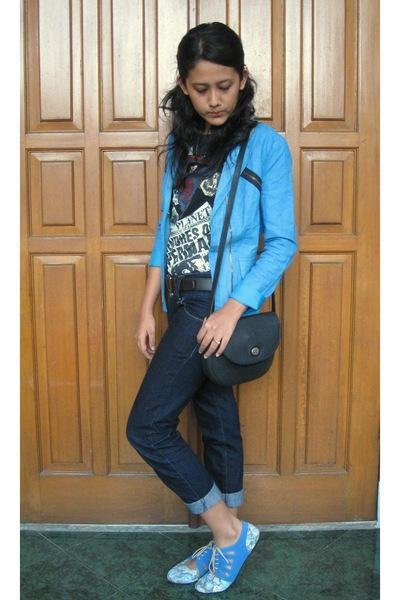bag: (191, 303, 282, 382)
jacket: (149, 124, 296, 310)
pants: (126, 286, 243, 503)
shirt: (168, 165, 221, 271)
shoe: (167, 522, 259, 592)
